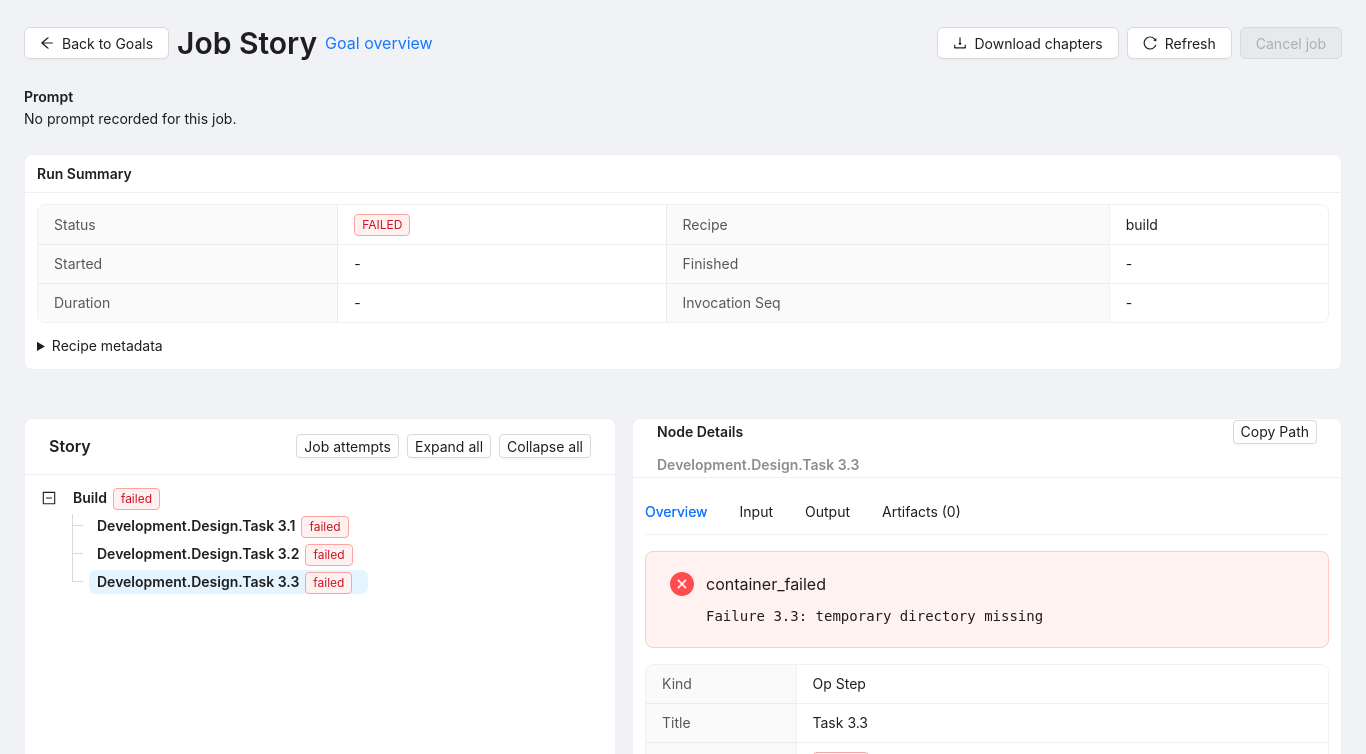
it: job story history › keeps old node-ID links working and lets users collapse and expand the story
Expected: the text "Failure 3.3: temporary directory missing" is shown, [706,608,1043,624]
Click the button "Collapse all" at (545, 446), box [499,434,591,458]
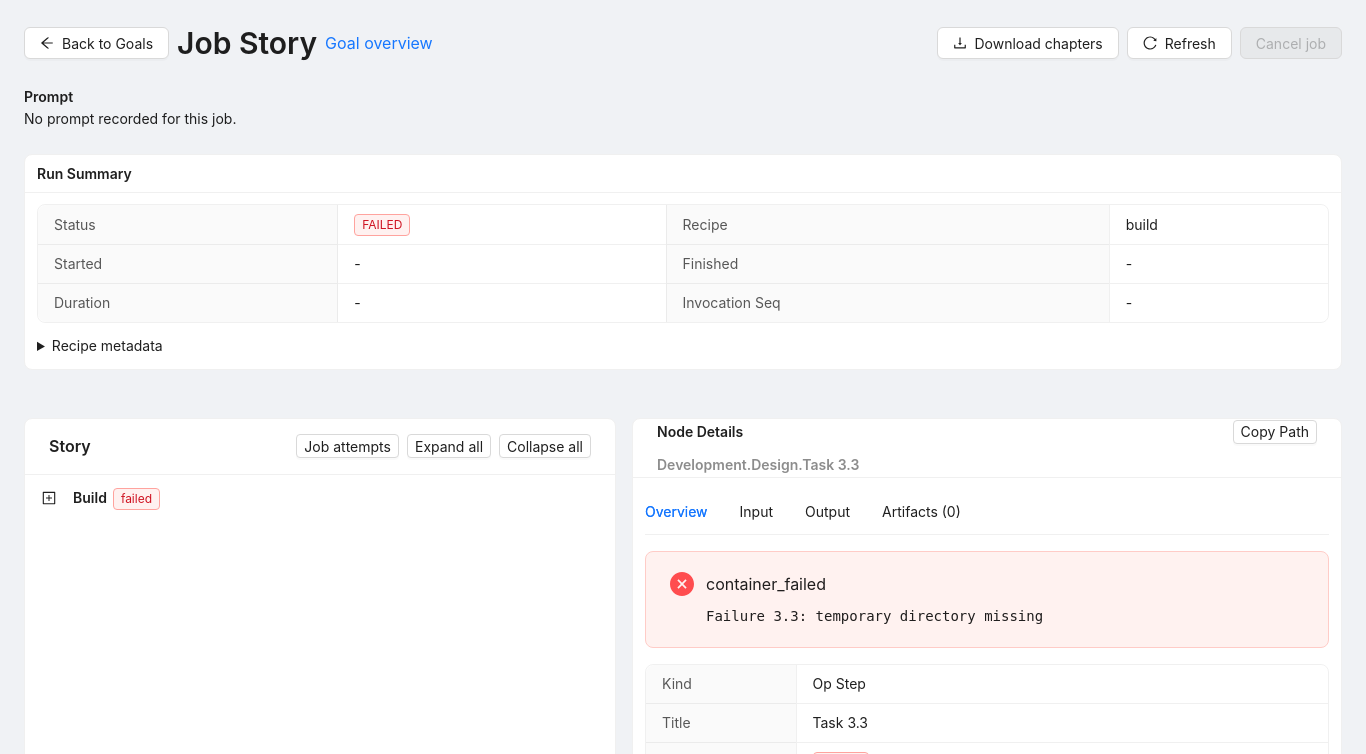
Expected: the text "Development.Design.Task 3.1" is gone
Click the button "Expand all" at (449, 446), box [407,434,491,458]
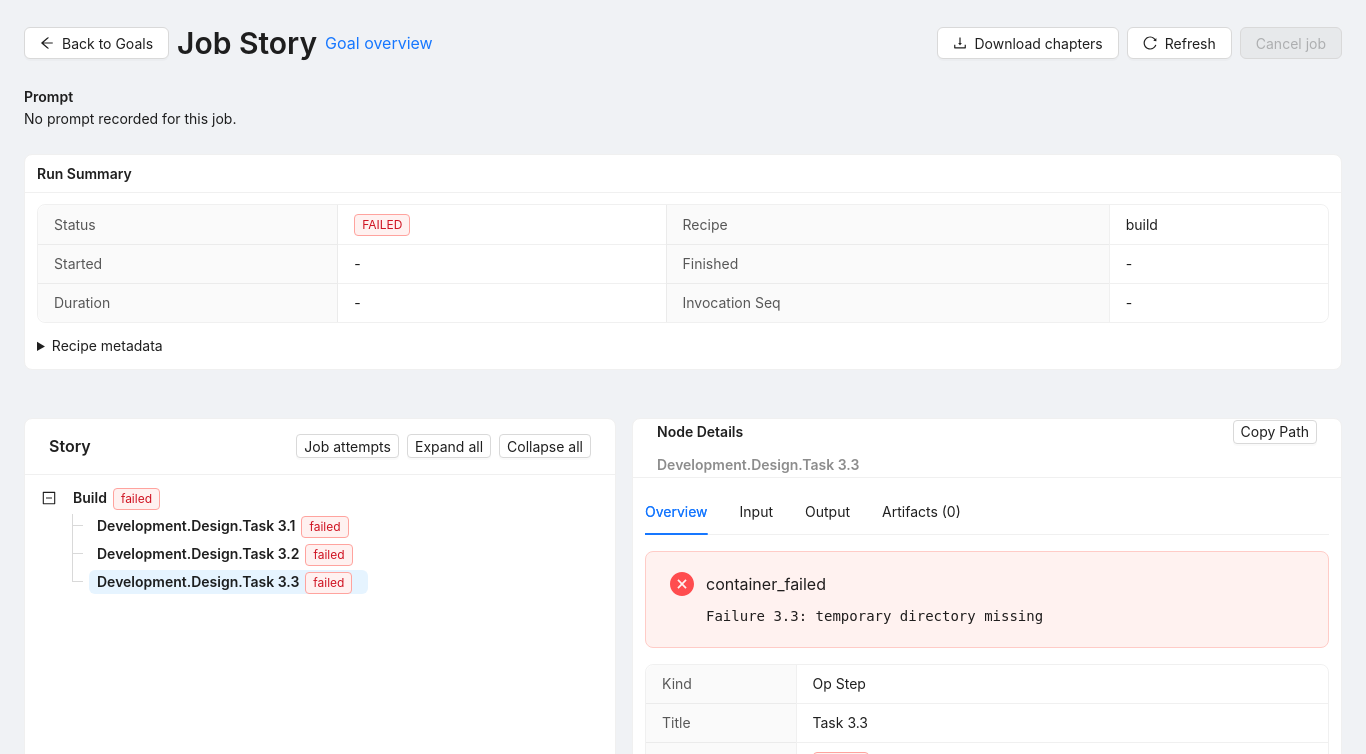
Expected: the text "Development.Design.Task 3.1" is shown, [97,517,295,534]
